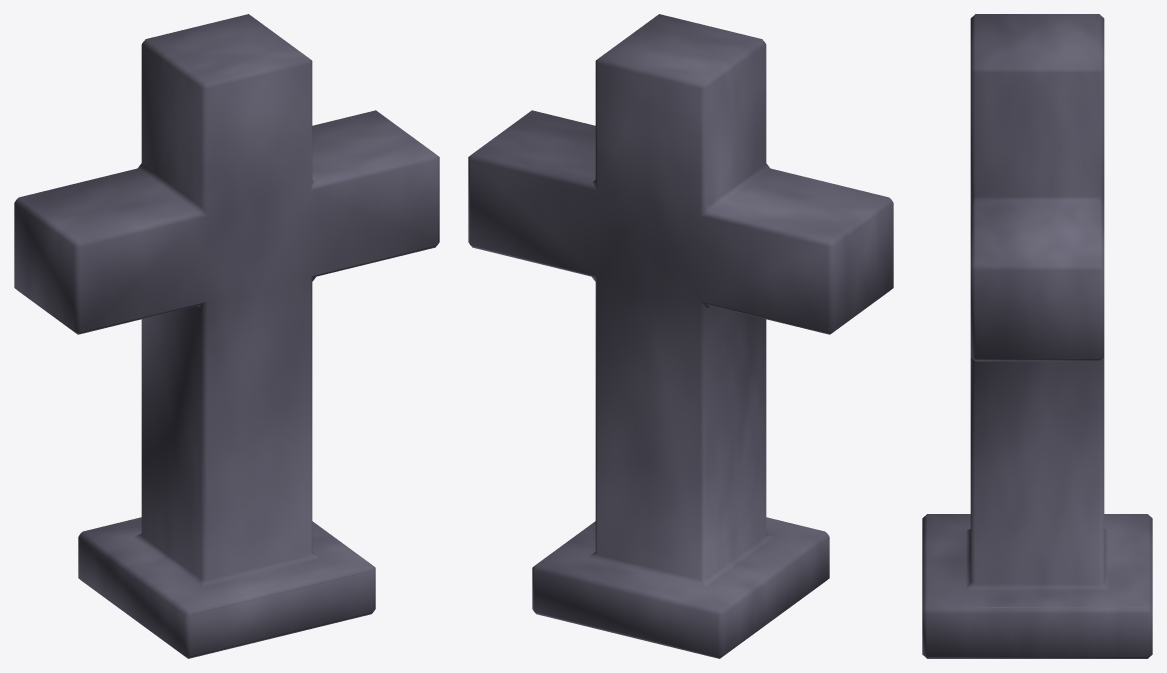
Rendered from Cross.glb.
The picture shows the model from 3 angles, left to right: view 1: azimuth 30°, elevation 25°; view 2: azimuth 150°, elevation 25°; view 3: azimuth 270°, elevation 25°; orthographic projection. The views are drawn at different scales.
Visible parts, largest first — view 1: CrossPillar; view 2: CrossPillar; view 3: CrossPillar.
Boxes of the visible parts, box(x1,y1,x2,y2) form: CrossPillar: box(14, 14, 439, 658); CrossPillar: box(468, 14, 893, 658); CrossPillar: box(922, 14, 1152, 658).
Size of the model in its own units: 3.52 by 5.06 by 1.84.
Materials: 1 (1 with a texture image).
